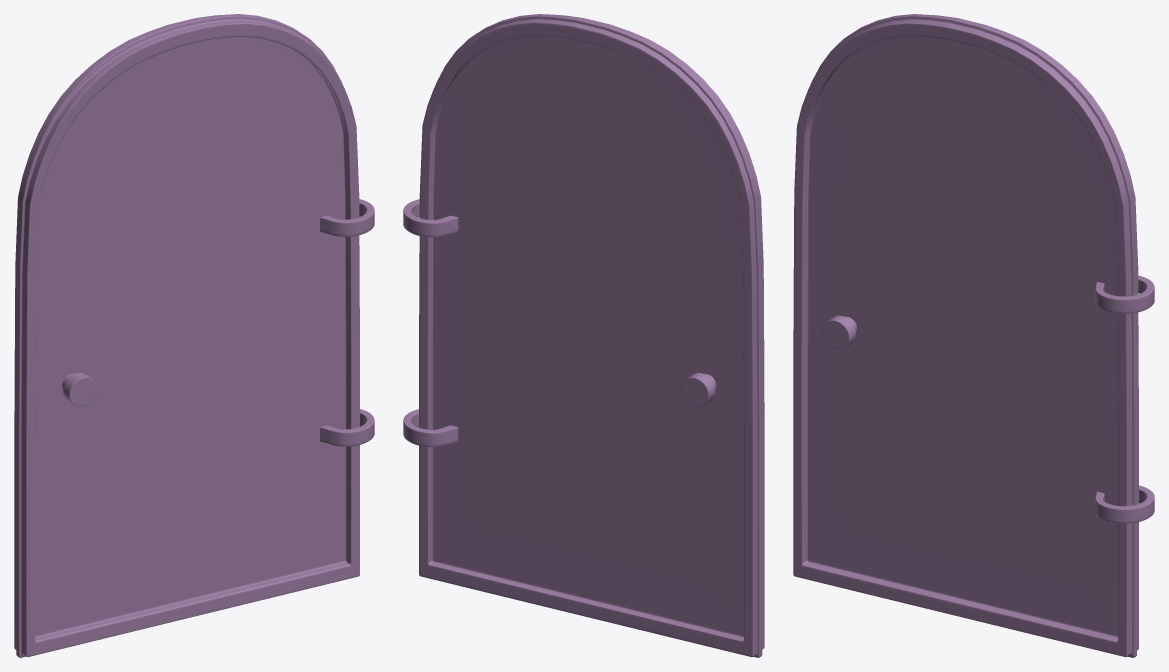
Rendered from Door.fbx.
3 views of the same model, side by side, from view 1: azimuth 30°, elevation 25°; view 2: azimuth 150°, elevation 25°; view 3: azimuth 330°, elevation 25° (orthographic).
Parts seen in each view (by area): view 1: pCube40, pCylinder121, pCylinder122, pCylinder126; view 2: pCube40, pCylinder121, pCylinder122, pCylinder125; view 3: pCube40, pCylinder121, pCylinder122, pCylinder126.
Part boxes in pixels (bbox=[...]): pCube40: bbox=[14, 14, 359, 657]; pCylinder121: bbox=[320, 199, 374, 236]; pCylinder122: bbox=[320, 409, 374, 446]; pCylinder126: bbox=[62, 373, 97, 407]; pCube40: bbox=[419, 14, 764, 657]; pCylinder121: bbox=[403, 199, 458, 237]; pCylinder122: bbox=[403, 409, 458, 447]; pCylinder125: bbox=[681, 373, 716, 407]; pCube40: bbox=[793, 14, 1138, 657]; pCylinder121: bbox=[1095, 275, 1154, 313]; pCylinder122: bbox=[1095, 485, 1154, 523]; pCylinder126: bbox=[822, 315, 856, 349].
Size of the model in its own units: 13.2 by 21.2 by 1.98.
